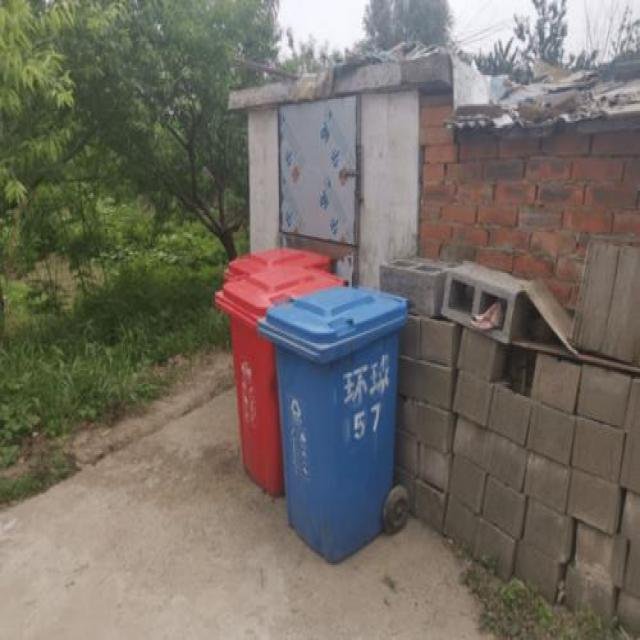garbage_bin: (256, 284, 406, 562), (210, 244, 347, 497)
